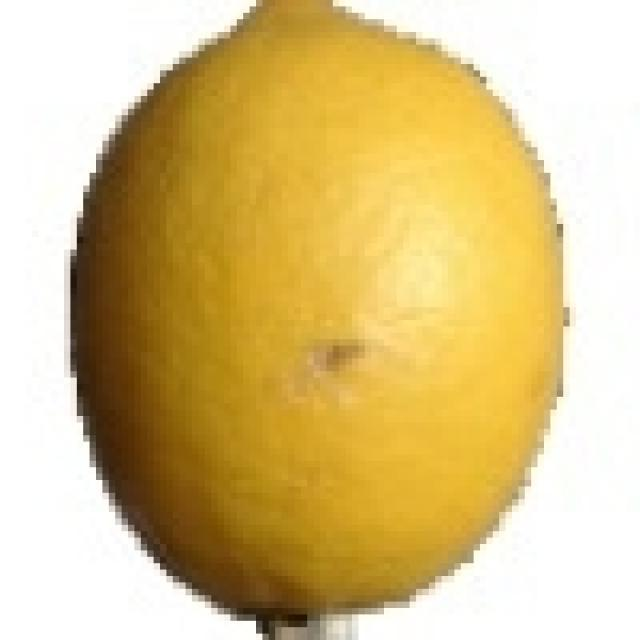lemon: (72, 0, 561, 628)
